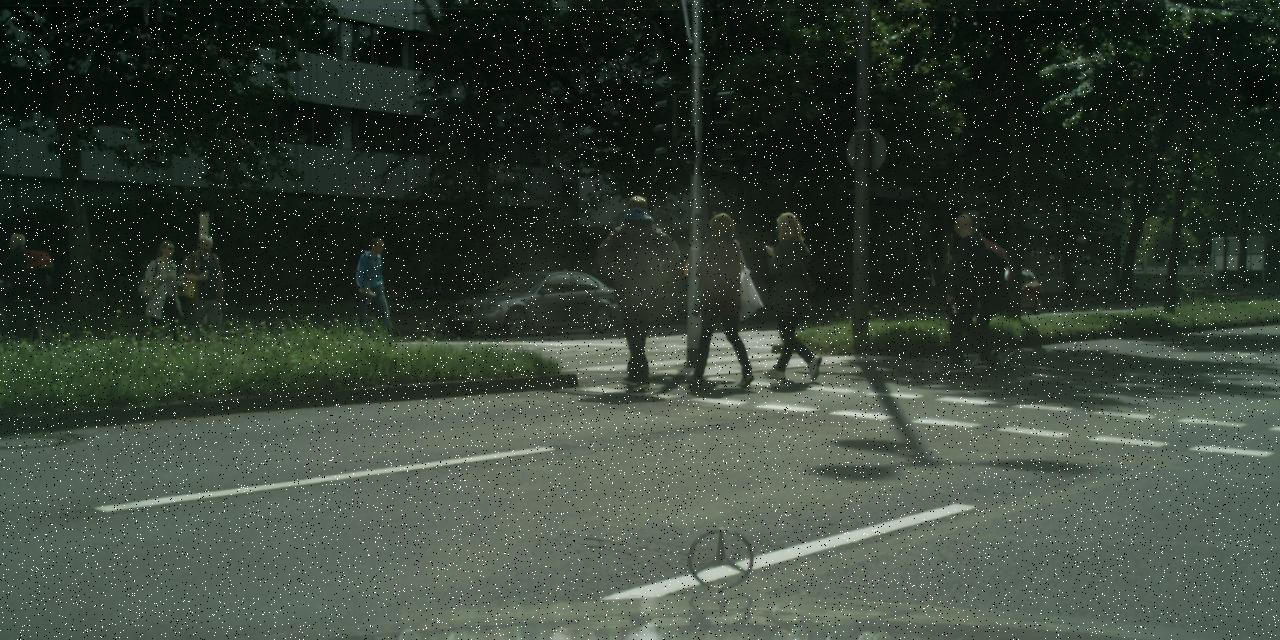ped: (598, 195, 676, 387), (688, 212, 758, 383), (760, 212, 826, 376), (940, 214, 1002, 368), (963, 225, 1020, 364), (182, 234, 230, 354), (141, 240, 188, 354), (354, 238, 398, 348), (0, 233, 41, 343), (917, 257, 935, 302)
